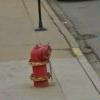Hydrant: (24, 33, 60, 95)
